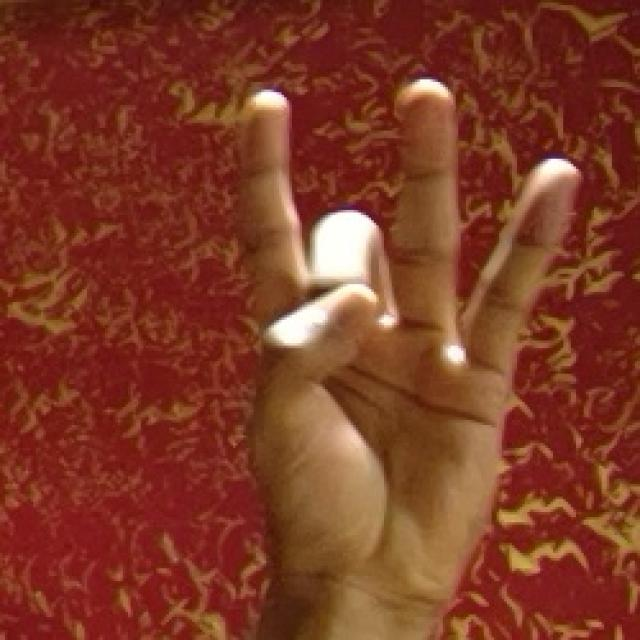Numeric-8: (224, 72, 584, 586)
